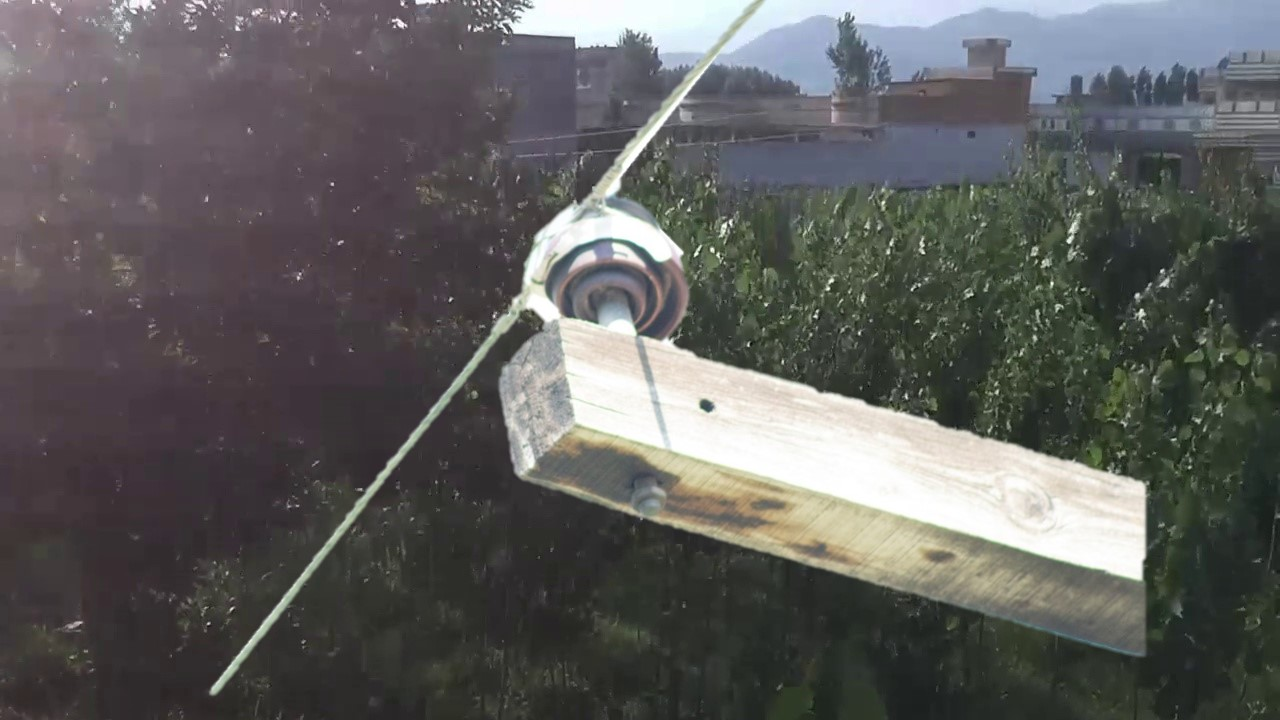defect_pin: (520, 184, 695, 340)
